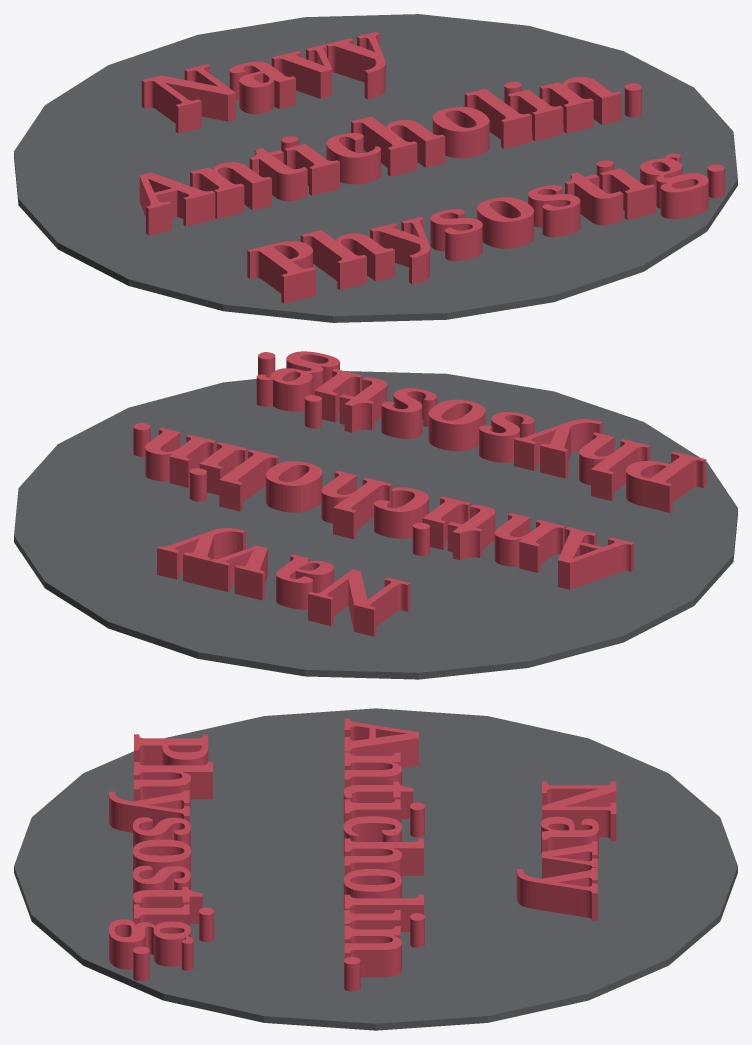
Rendered from austin.gltf.
The picture shows the model from 3 angles, top to bottom: view 1: azimuth 30°, elevation 25°; view 2: azimuth 150°, elevation 25°; view 3: azimuth 270°, elevation 25°; orthographic projection.
Visible parts, largest first — view 1: Mesh_Mesh_head_geo001_lambert2SG001; view 2: Mesh_Mesh_head_geo001_lambert2SG001; view 3: Mesh_Mesh_head_geo001_lambert2SG001.
Part boxes in pixels (<box>): Mesh_Mesh_head_geo001_lambert2SG001: <box>14,14,737,322</box>; Mesh_Mesh_head_geo001_lambert2SG001: <box>14,351,737,679</box>; Mesh_Mesh_head_geo001_lambert2SG001: <box>14,708,737,1030</box>.
Bounding box in the file's own units: 199 × 10 × 193.
